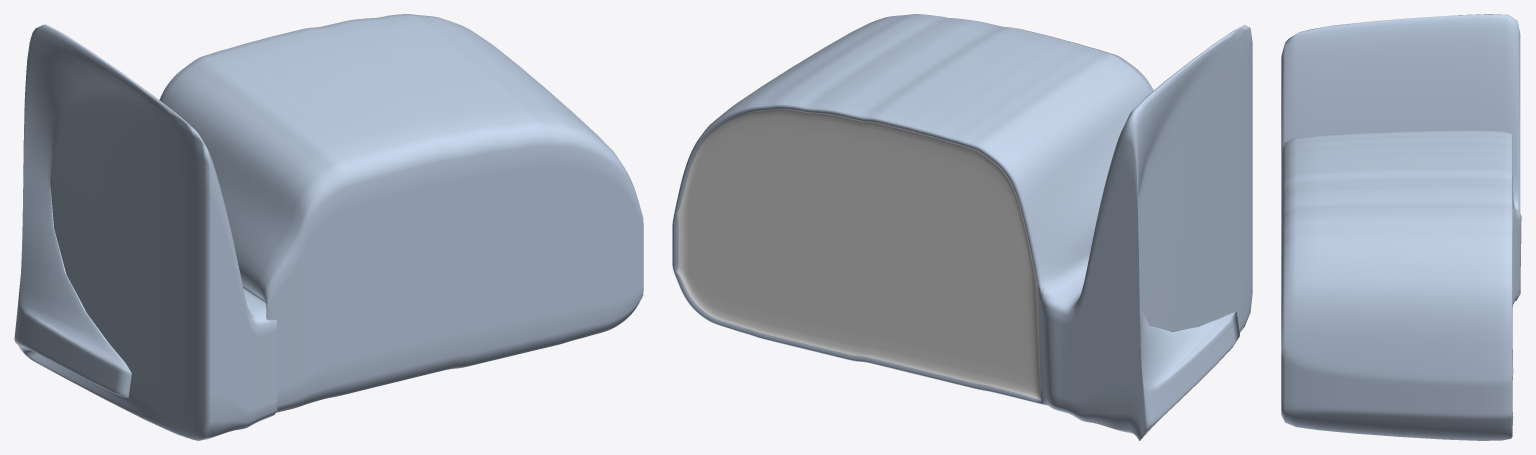
The model's file is car_mirror.fbx.
3 views of the same model, side by side, from view 1: azimuth 30°, elevation 25°; view 2: azimuth 150°, elevation 25°; view 3: azimuth 270°, elevation 25° (orthographic). The views are drawn at different scales.
Parts seen in each view (by area): view 1: pPlane1; view 2: pPlane1; view 3: pPlane1.
Boxes of the visible parts, x1,y1,x2,y2 form: pPlane1: (14,14,643,440); pPlane1: (672,14,1252,440); pPlane1: (1281,14,1521,440).
Bounding box in the file's own units: 2.64 × 1.7 × 1.38.
